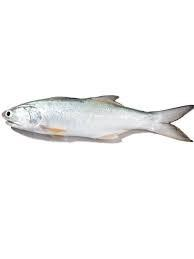Mullet: (2, 93, 194, 151)
